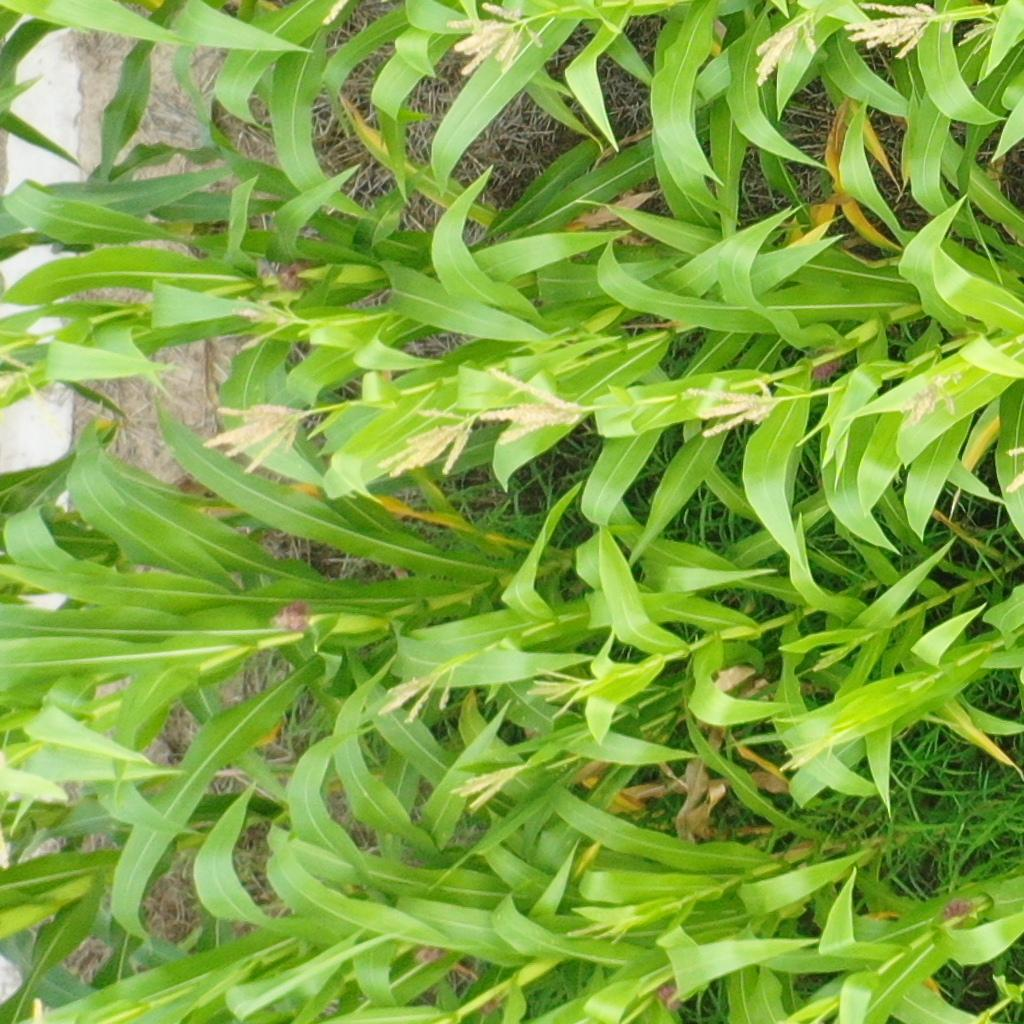Tassel: (478, 361, 588, 448), (201, 399, 304, 477), (379, 404, 479, 483), (445, 2, 546, 76), (843, 1, 942, 60), (684, 377, 781, 437), (750, 7, 820, 87), (379, 664, 458, 724), (231, 293, 307, 355), (450, 762, 531, 814), (893, 372, 968, 427), (525, 665, 598, 718), (1, 349, 49, 410), (780, 732, 837, 778), (955, 4, 1007, 53), (566, 915, 645, 944), (893, 670, 942, 695), (810, 645, 850, 674), (1005, 444, 1024, 494)
